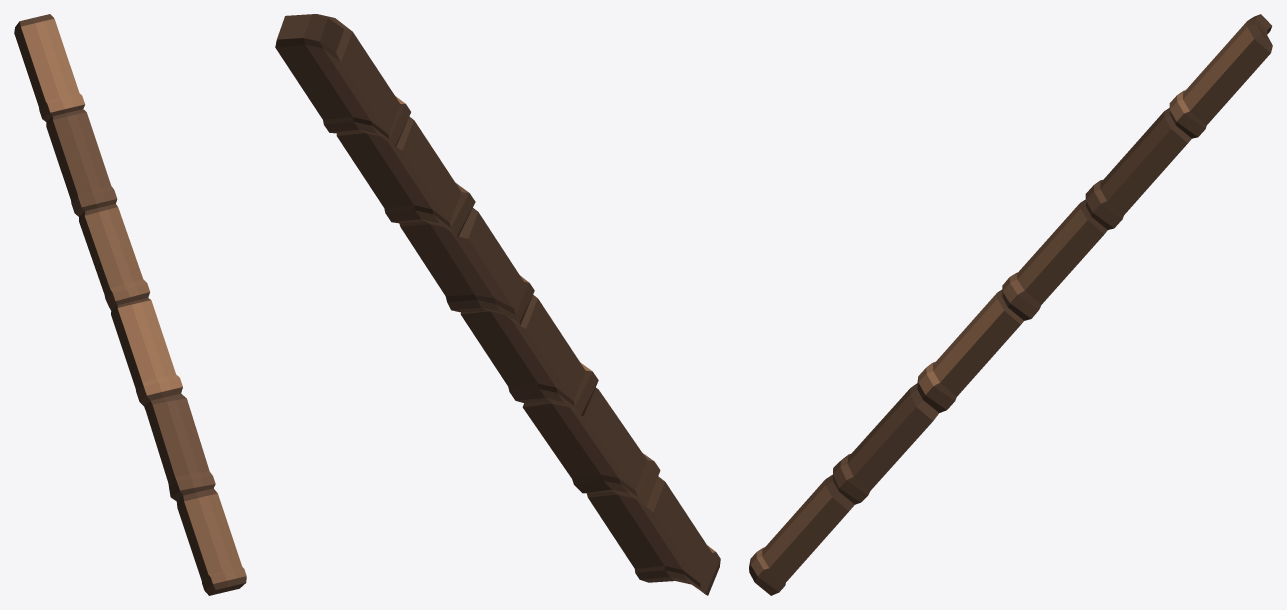
Rendered from SM_Bld_Roof_Manor_Trim_01.fbx.
The picture shows the model from 3 angles, left to right: view 1: azimuth 30°, elevation 25°; view 2: azimuth 150°, elevation 25°; view 3: azimuth 270°, elevation 25°; orthographic projection. The views are drawn at different scales.
Visible parts, largest first — view 1: SM_Bld_Roof_Manor_Trim_01; view 2: SM_Bld_Roof_Manor_Trim_01; view 3: SM_Bld_Roof_Manor_Trim_01.
Boxes of the visible parts, left/top/right/bottom form: SM_Bld_Roof_Manor_Trim_01: left=14, top=14, right=246, bottom=595; SM_Bld_Roof_Manor_Trim_01: left=275, top=14, right=720, bottom=595; SM_Bld_Roof_Manor_Trim_01: left=749, top=14, right=1272, bottom=595.
Bounding box in the file's own units: 28.19 × 315 × 264.
